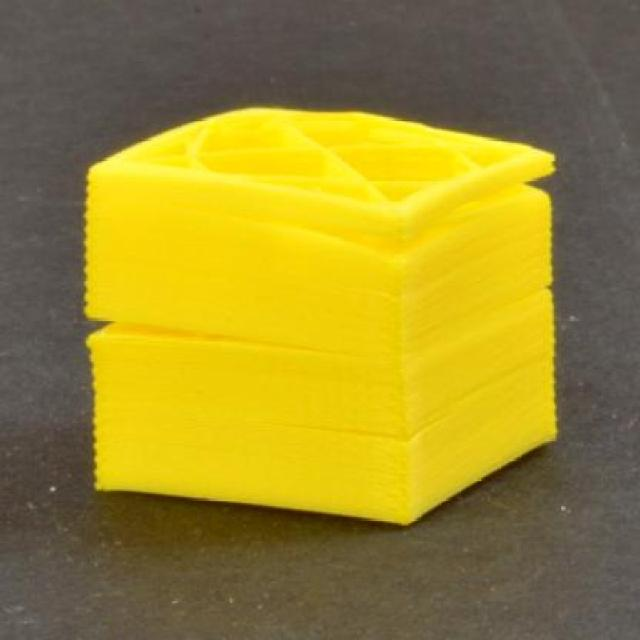Warping: (57, 275, 392, 380), (385, 138, 560, 257), (264, 400, 511, 458)
